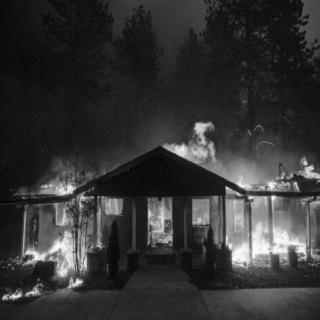Fire: (1, 112, 317, 304)
